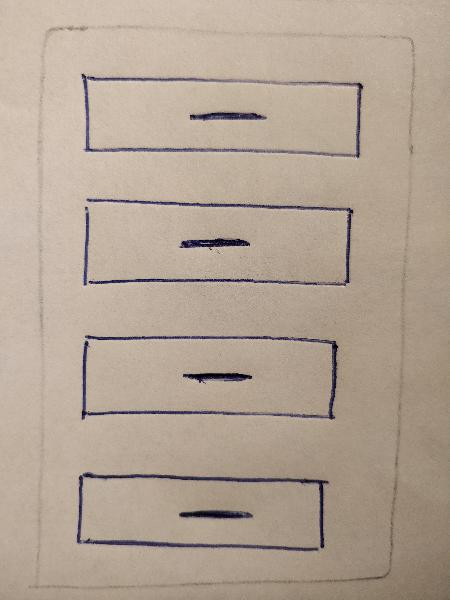button: (75, 64, 372, 172), (76, 192, 359, 297), (74, 324, 345, 433), (68, 463, 333, 565)
